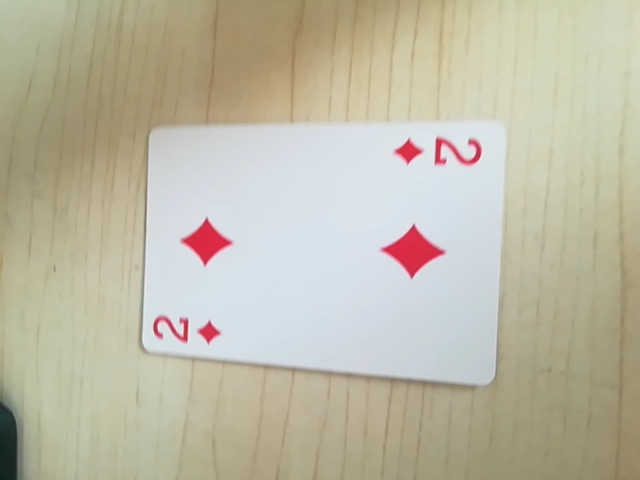fk 2: (391, 128, 490, 177), (149, 306, 231, 353)
